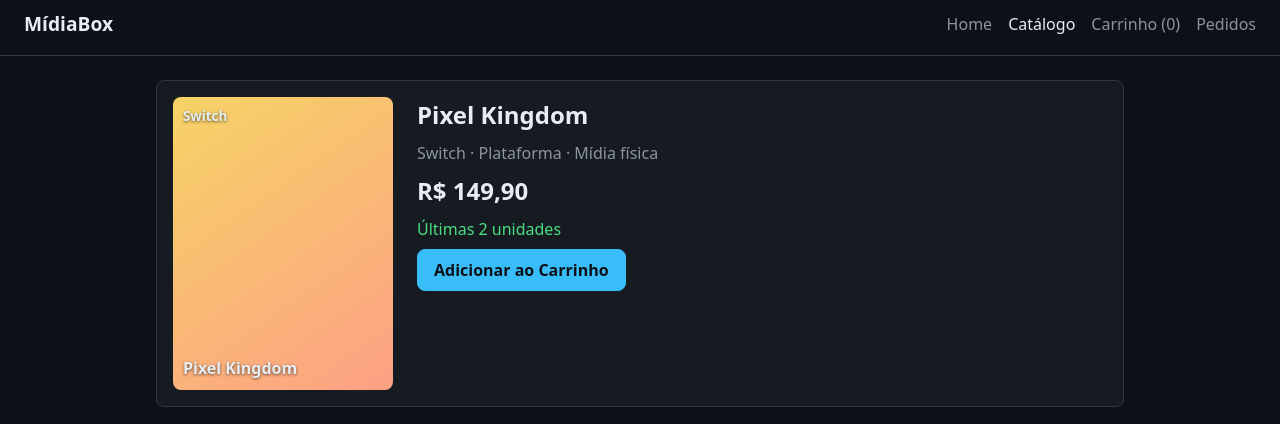
Test: página Produto › respeita o limite quando o estoque é menor que 3
The width and height of the screenshot is (1280, 424).
Click the button "Adicionar ao Carrinho". click: (521, 270)
box: [417, 249, 626, 291]
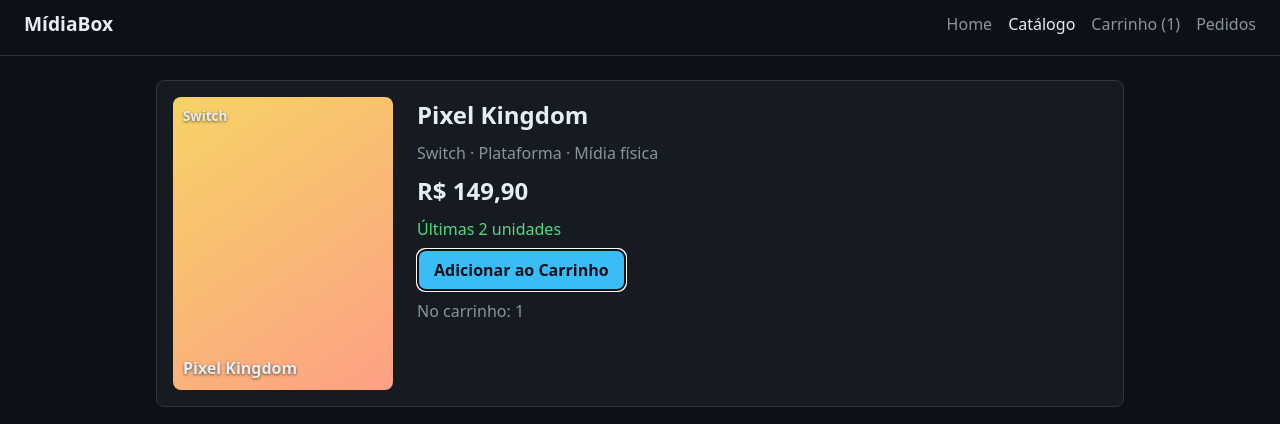
Click the button "Adicionar ao Carrinho". click: (521, 270)
box: [417, 249, 626, 291]
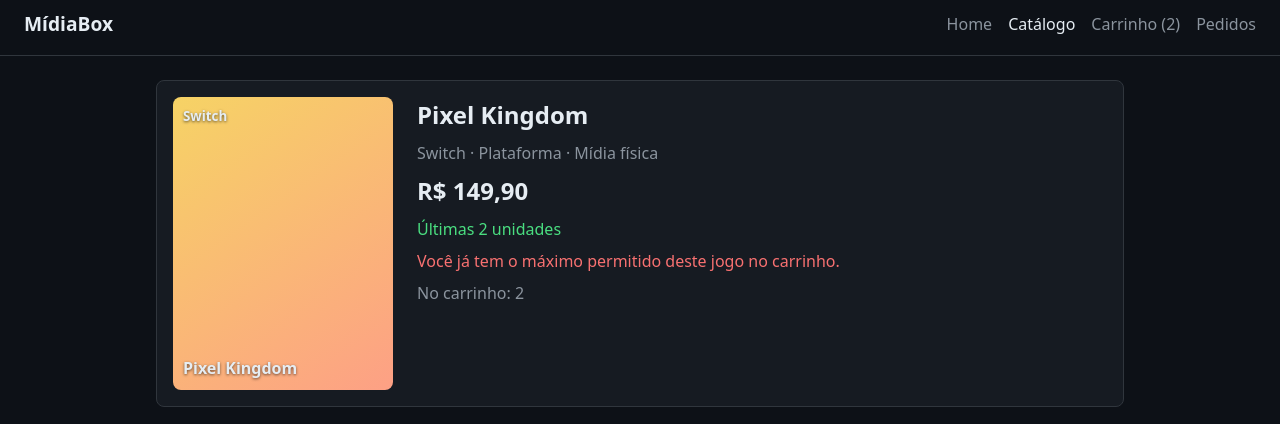
Now the button "Adicionar" is gone
Now the text "Você já tem o máximo permitido deste jogo no carrinho." is shown, box [417, 249, 840, 273]
